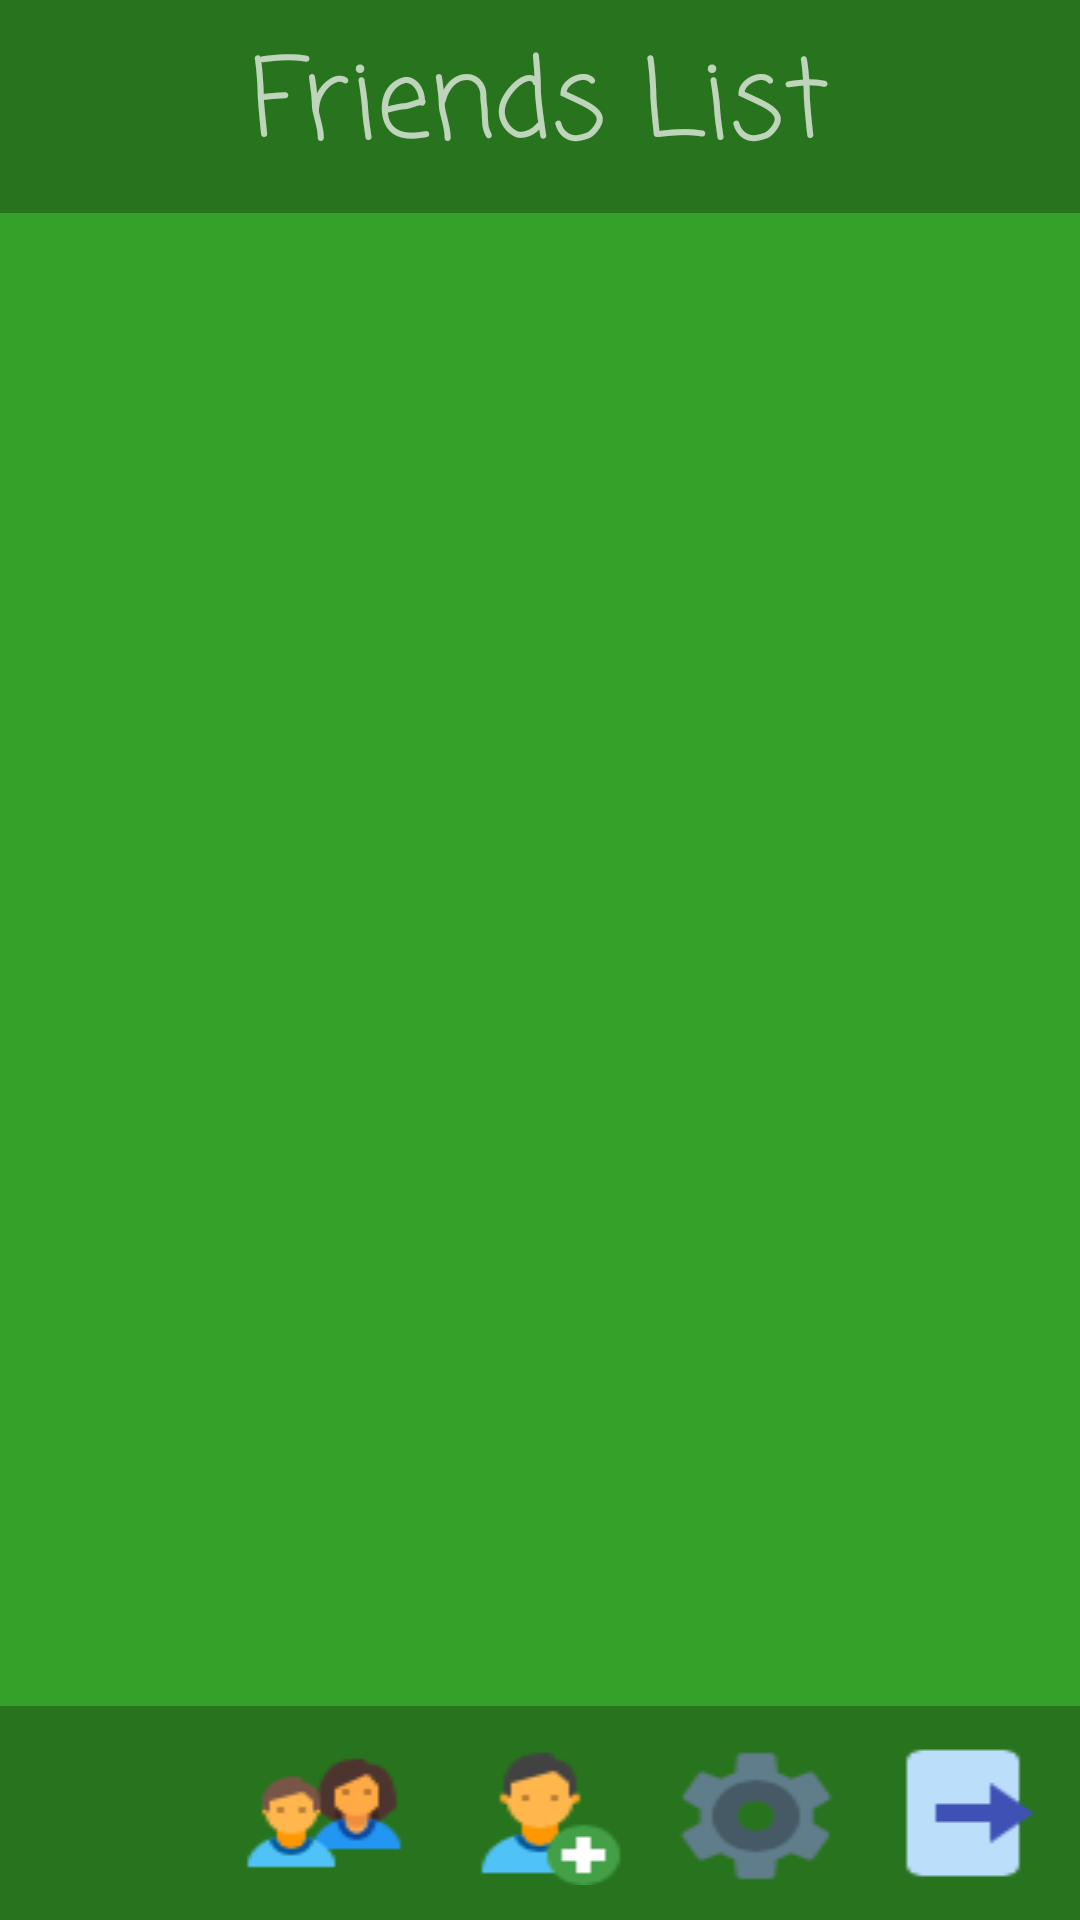

Named icons in this screenshot (1080 x 1920) and their centers, (x=x, y=y):
add friend: (x=550, y=1819)
friends group: (x=324, y=1813)
settings: (x=756, y=1816)
